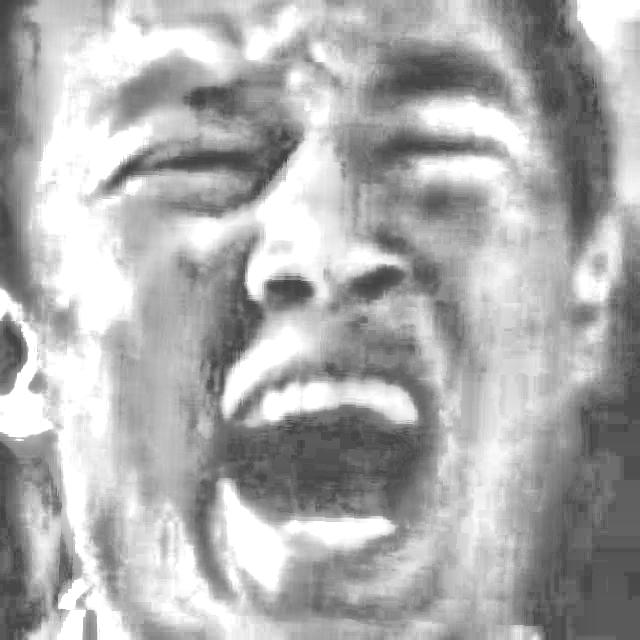angry: (63, 58, 565, 622)
